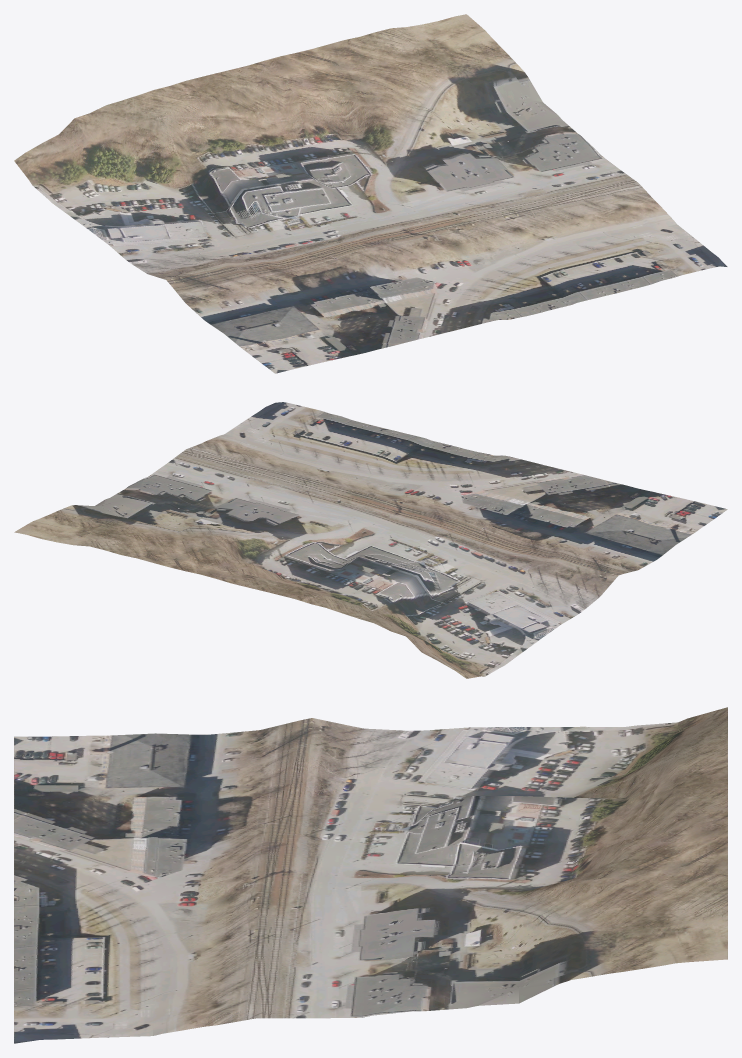
Rendered from CM_Terrain_24488410_6820204.fbx.
The picture shows the model from 3 angles, top to bottom: view 1: azimuth 30°, elevation 25°; view 2: azimuth 150°, elevation 25°; view 3: azimuth 270°, elevation 25°; orthographic projection. The views are drawn at different scales.
Visible parts, largest first — view 1: CM_Terrain_24488410_6820204_LOD0; view 2: CM_Terrain_24488410_6820204_LOD0; view 3: CM_Terrain_24488410_6820204_LOD0.
Part boxes in pixels (x1,y1,x2,y2): CM_Terrain_24488410_6820204_LOD0: (14,14,727,373); CM_Terrain_24488410_6820204_LOD0: (14,402,727,678); CM_Terrain_24488410_6820204_LOD0: (14,707,727,1043).
Size of what is drawn, in the model's own units: 205 by 28.54 by 205.
